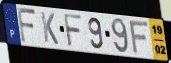9: (110, 17, 130, 55), (88, 16, 104, 50)
F: (16, 6, 38, 45), (62, 12, 83, 49), (128, 20, 150, 55)
K: (40, 11, 60, 47)
